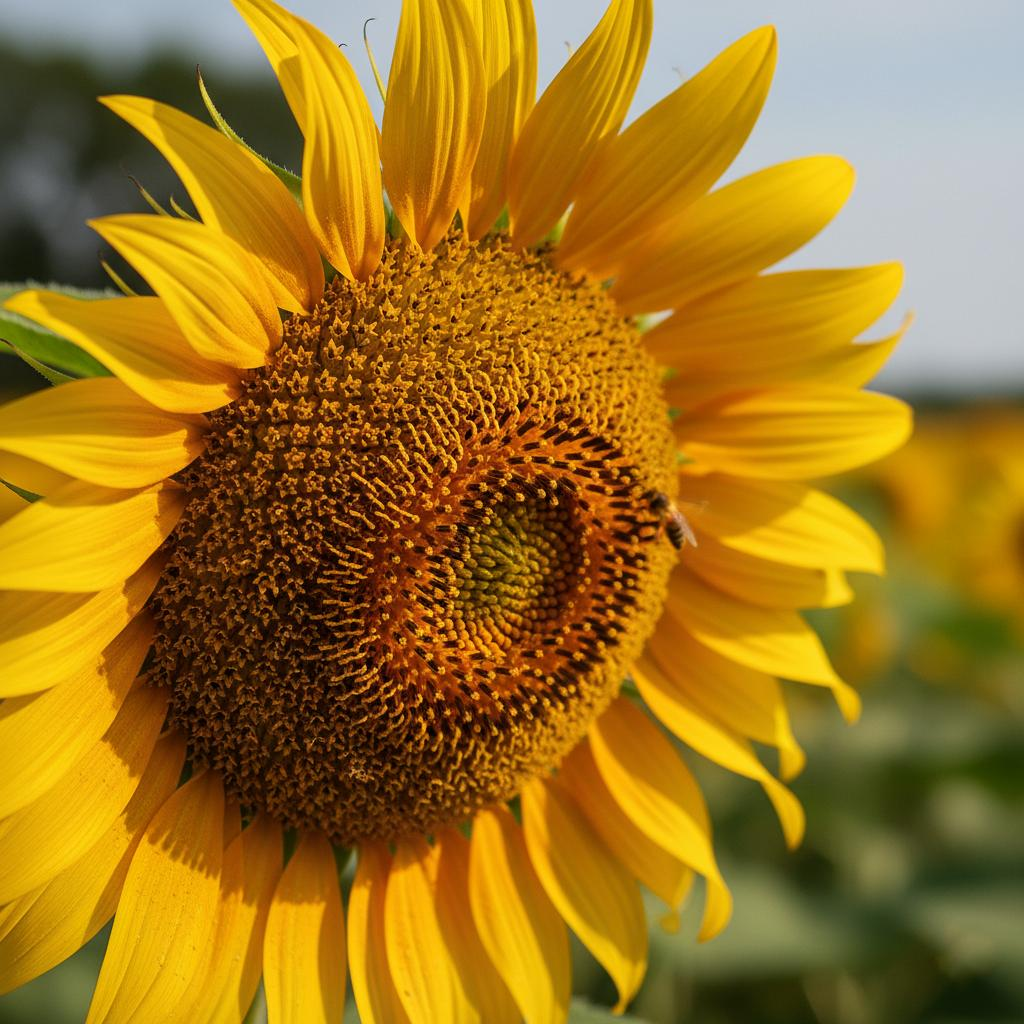sunflower: (1, 0, 914, 1022)
